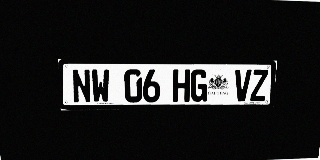0: (124, 69, 142, 103)
6: (143, 69, 160, 102)
G: (190, 69, 208, 102)
H: (173, 69, 190, 102)
N: (71, 69, 91, 103)
V: (233, 69, 252, 101)
W: (91, 69, 110, 103)
Z: (250, 69, 268, 101)
